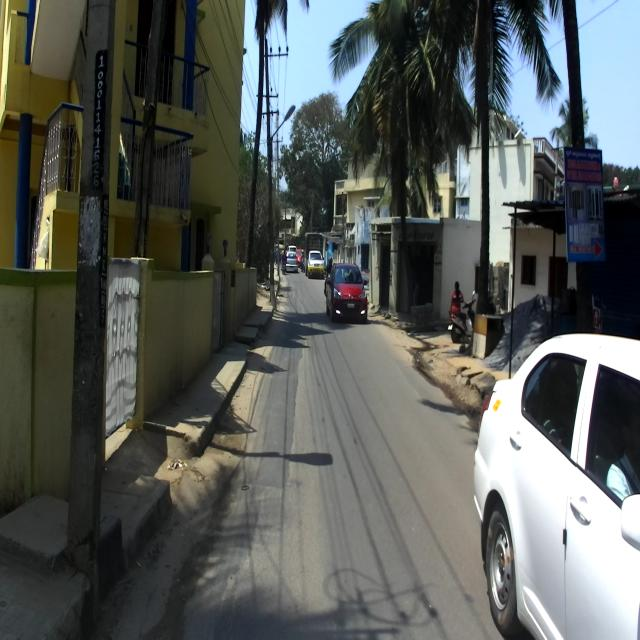car ahead at: (468, 328, 640, 640), (321, 258, 370, 330)
electric pole ahead at: (65, 0, 124, 580)
